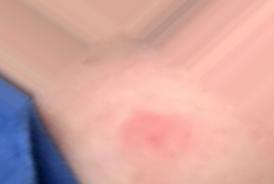Reupload: (1, 0, 273, 183)
